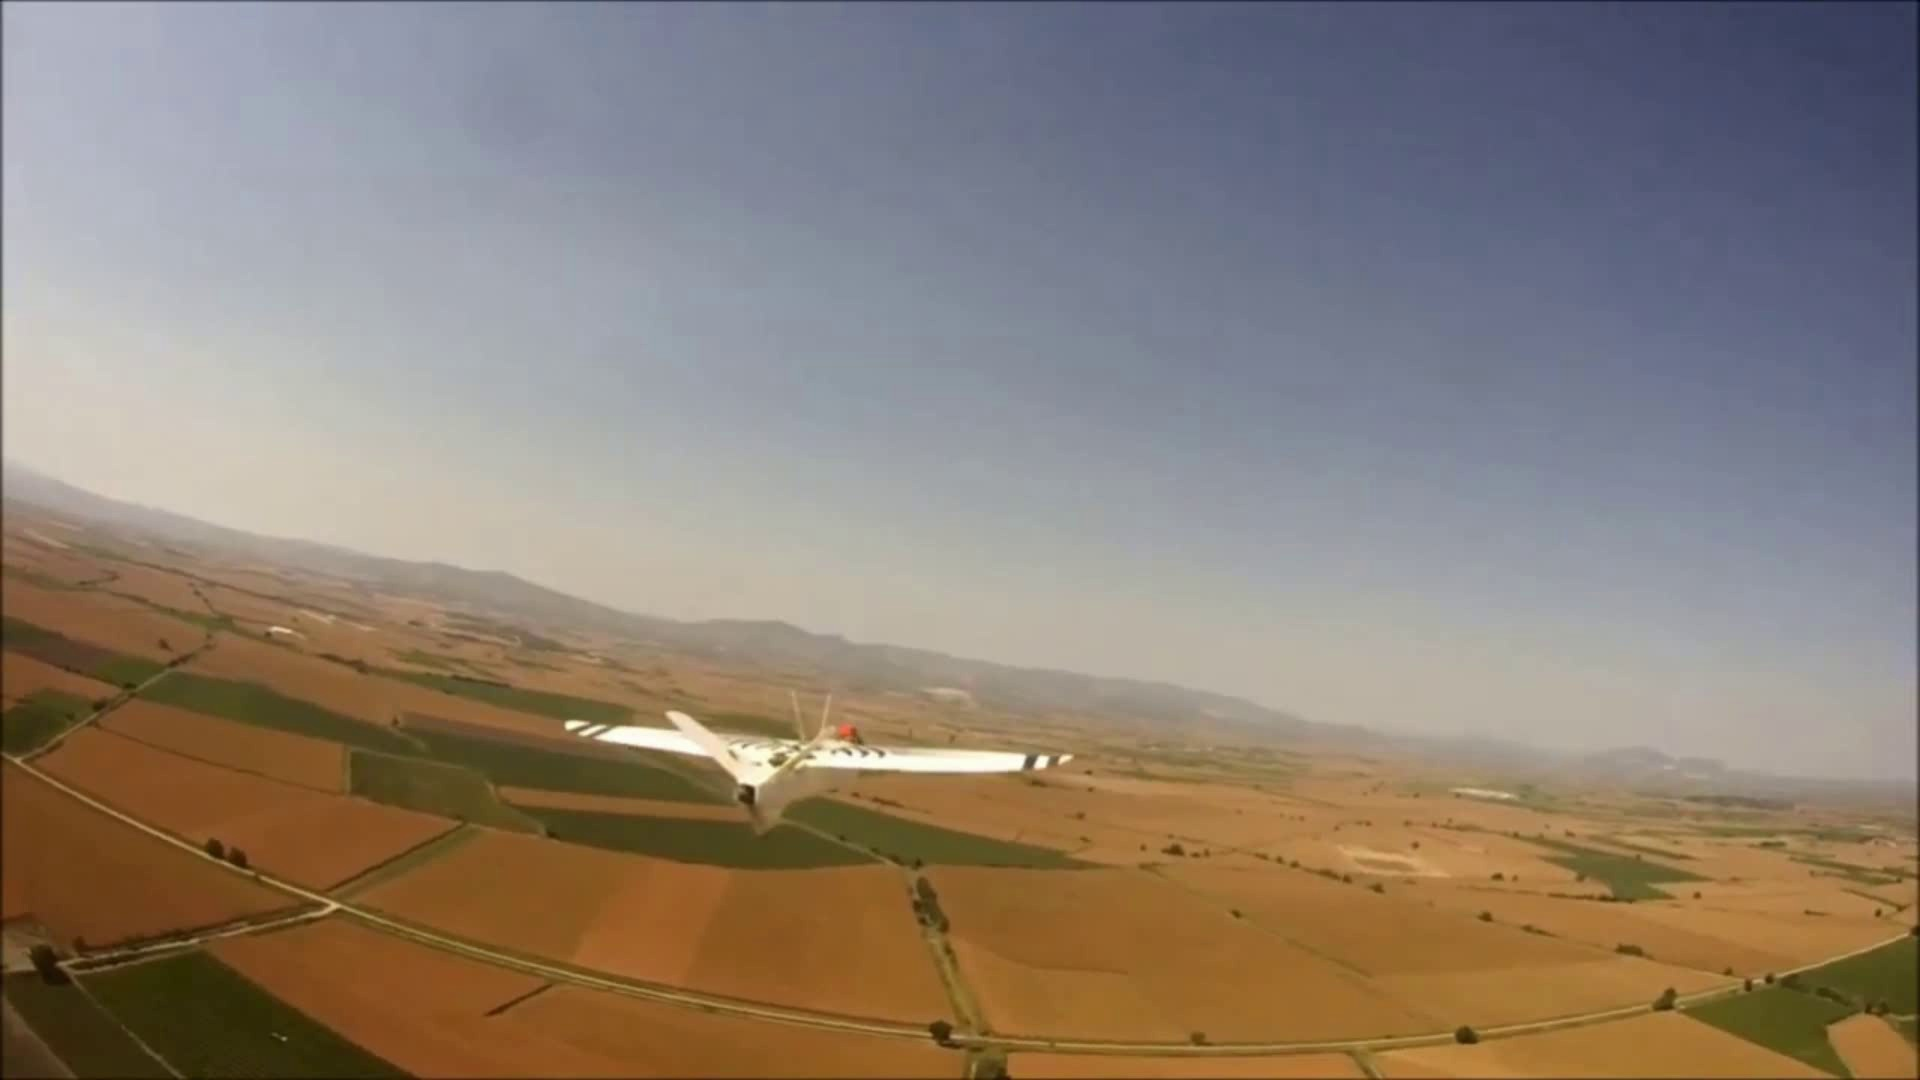airplane: (15, 462, 1073, 824)
